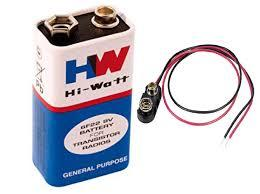9V: (30, 5, 138, 192)
